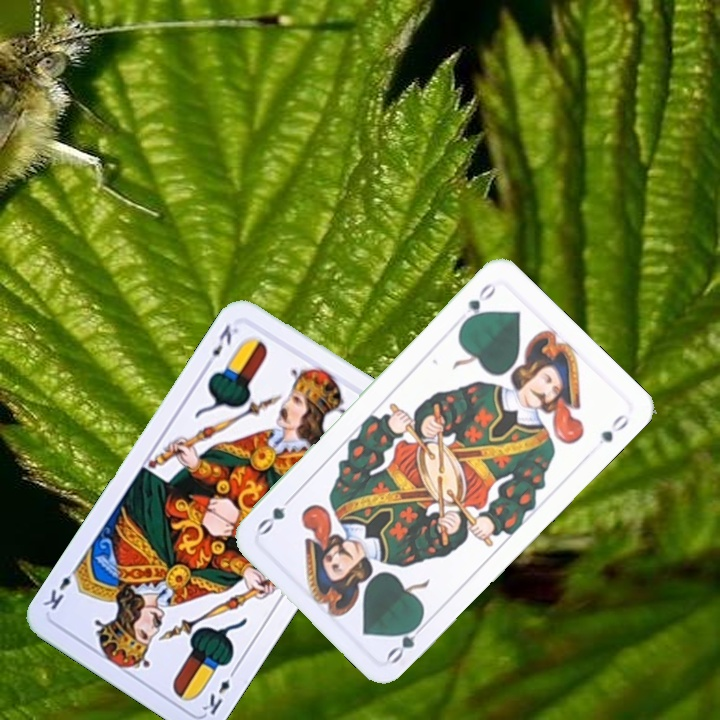EK: (198, 663, 240, 718), (201, 320, 242, 371)
GO: (383, 614, 431, 666), (457, 278, 499, 329)
